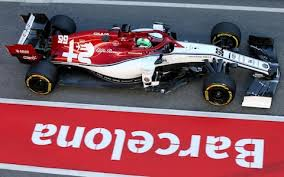FormulaOneCar: (8, 8, 284, 114)
